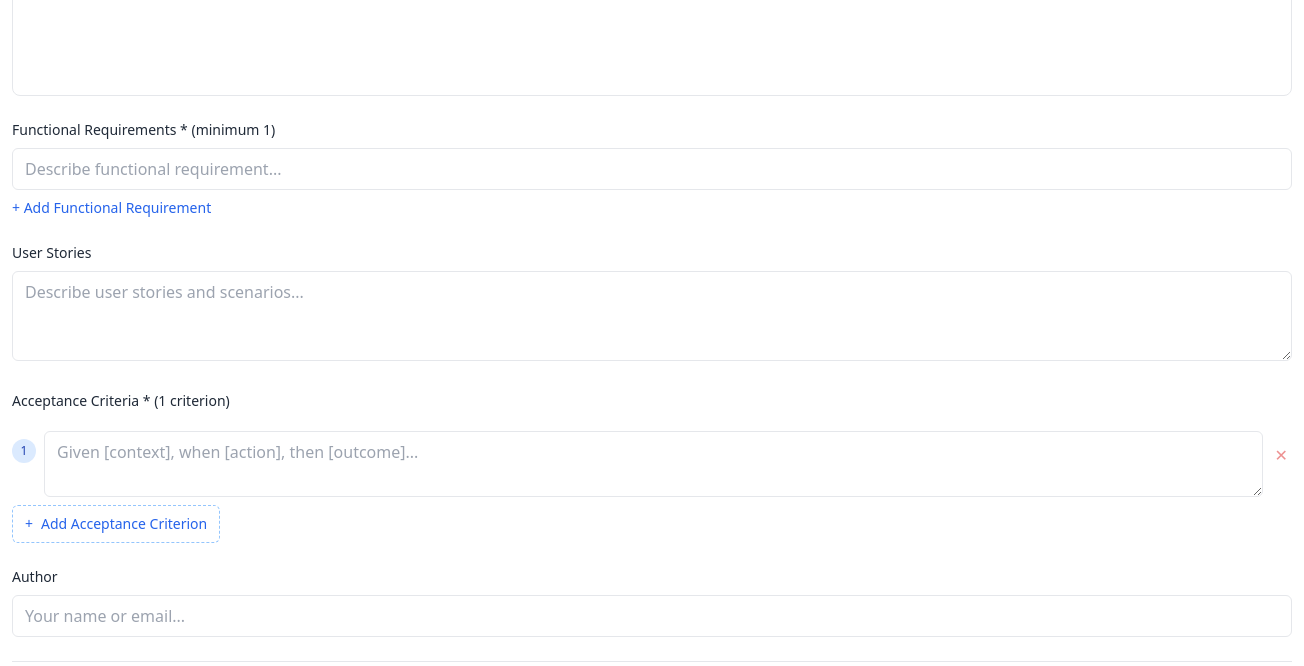
Test: RequirementForm - Acceptance Criteria Management › Adding Criteria › should add new criterion with add button
(page scrolled)
Step 1. Click the button titled "Add acceptance criterion" → (116, 524), box top-left (12, 505), bottom-right (220, 543)
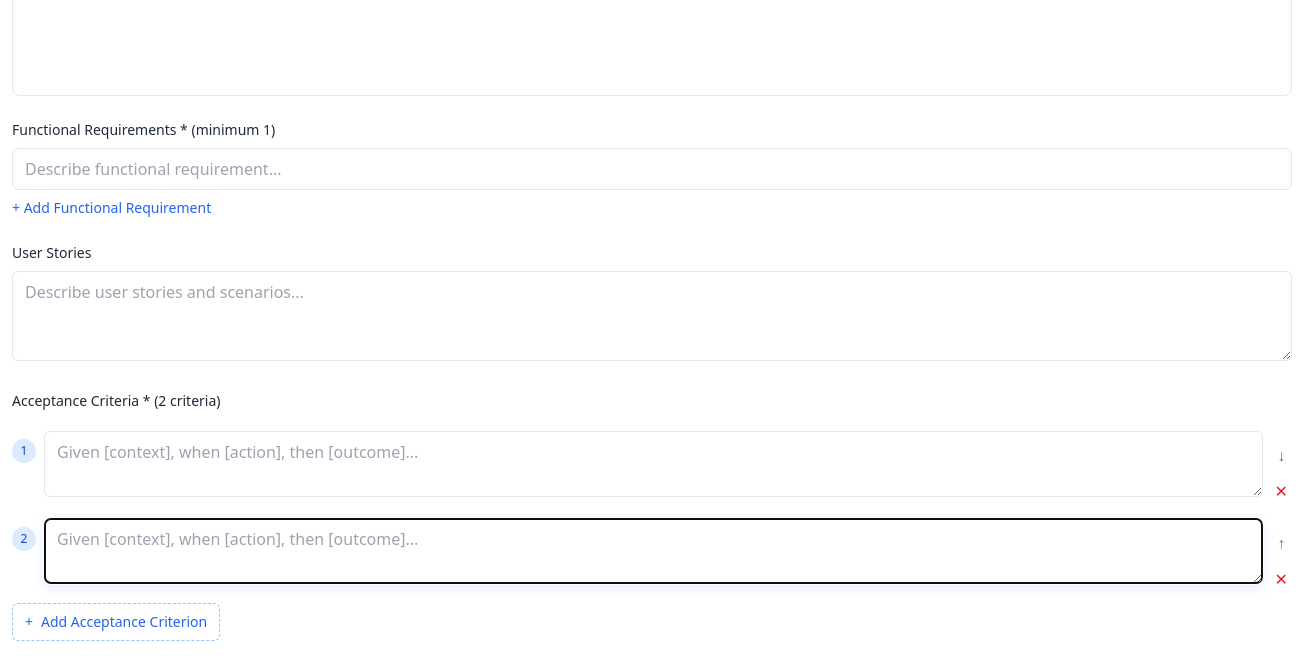
Check: the text "Acceptance Criteria * (2 criteria)" is shown, box top-left (12, 391), bottom-right (220, 411)
Check: the number of text boxes with placeholder "Given [context], when [action], then [outcome]..." is 2, box top-left (44, 431), bottom-right (1263, 497); top-left (44, 518), bottom-right (1263, 584)
Check: the text "2" is shown, box top-left (12, 527), bottom-right (36, 551)
